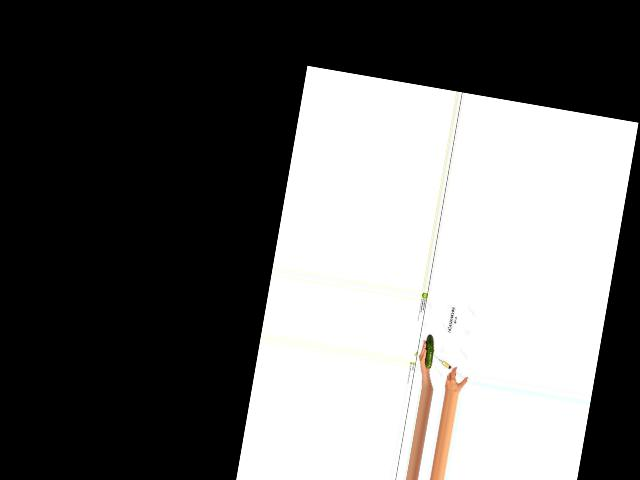cucumber: (421, 334, 436, 369)
